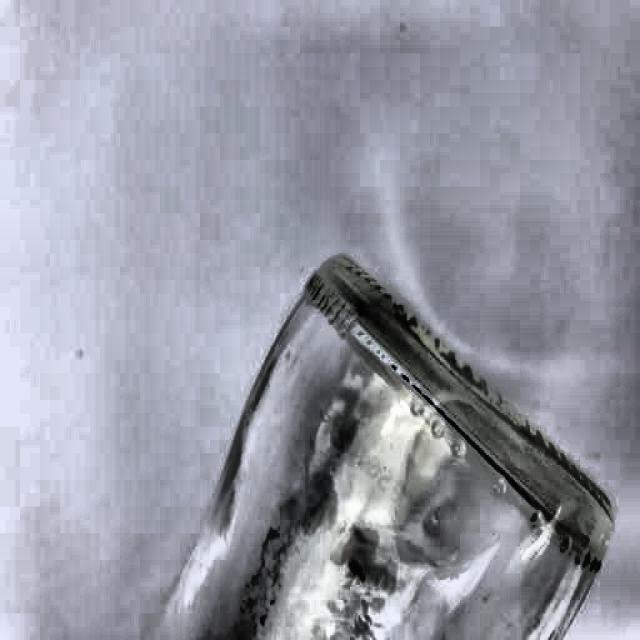glass: (166, 250, 615, 640)
